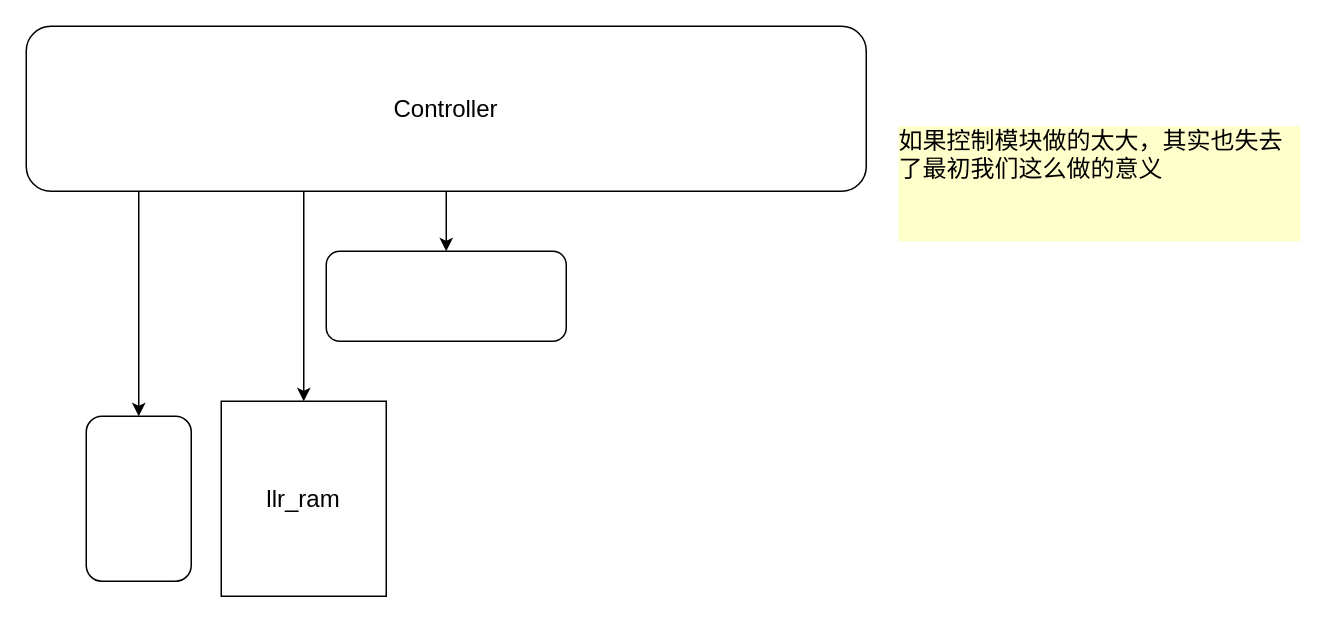
The diagram is 1328 pixels wide and 623 high, and some of its shapes have lost their labels. Each missing label, with the centre of its shape:
"CPU" goes at [138,498].
"VPU" goes at [445,295].
